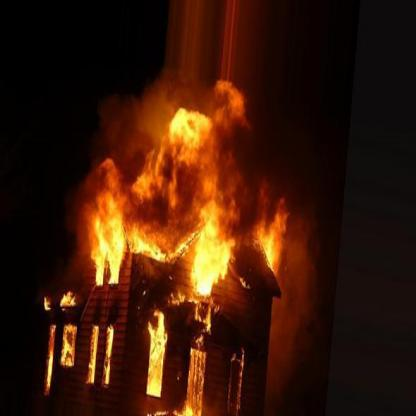fire: (80, 67, 280, 404), (38, 288, 80, 392)
